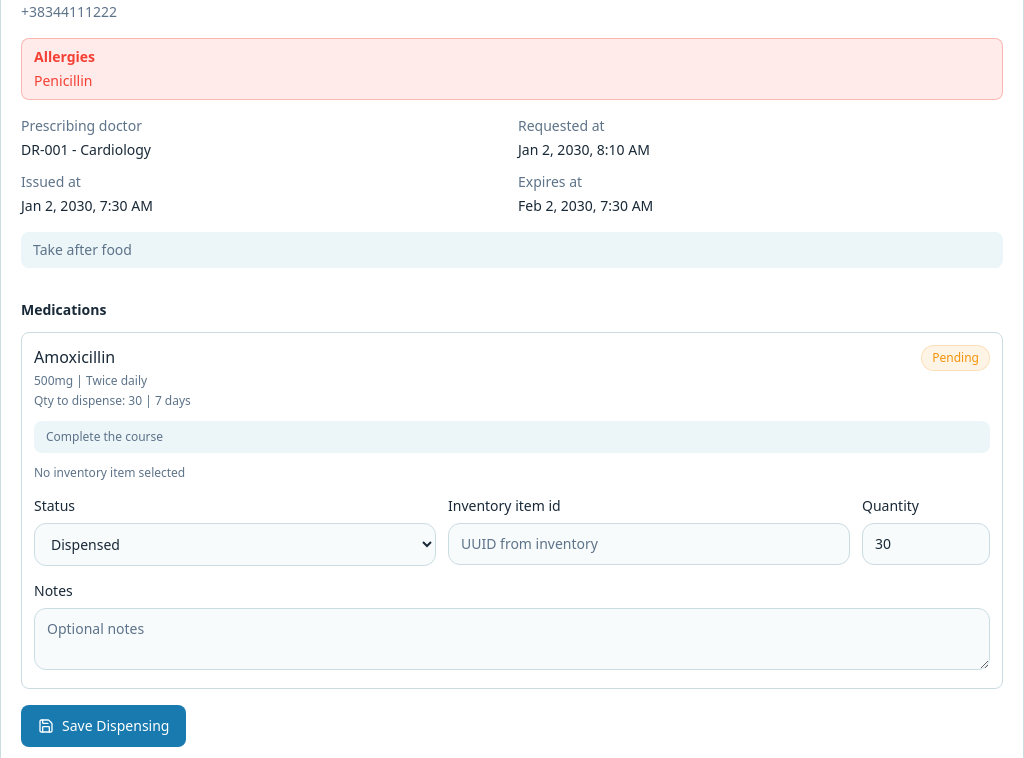
Scenario: PharmacyDashboardPage › shows backend validation errors from dispensing
(page scrolled)
Type "77777777-7777-4777-8777-777777777777" into the field labelled "Inventory item id" at (649, 544), box [448,523,850,565]
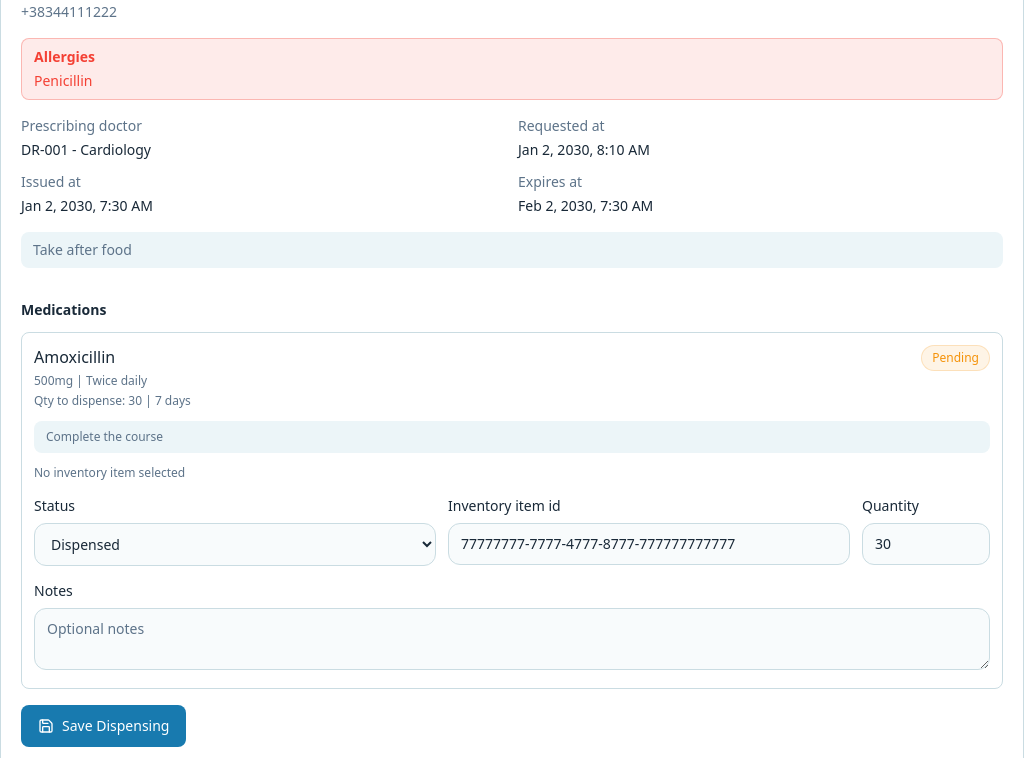
Click the button "Save Dispensing" at (104, 726), box [21,705,186,747]
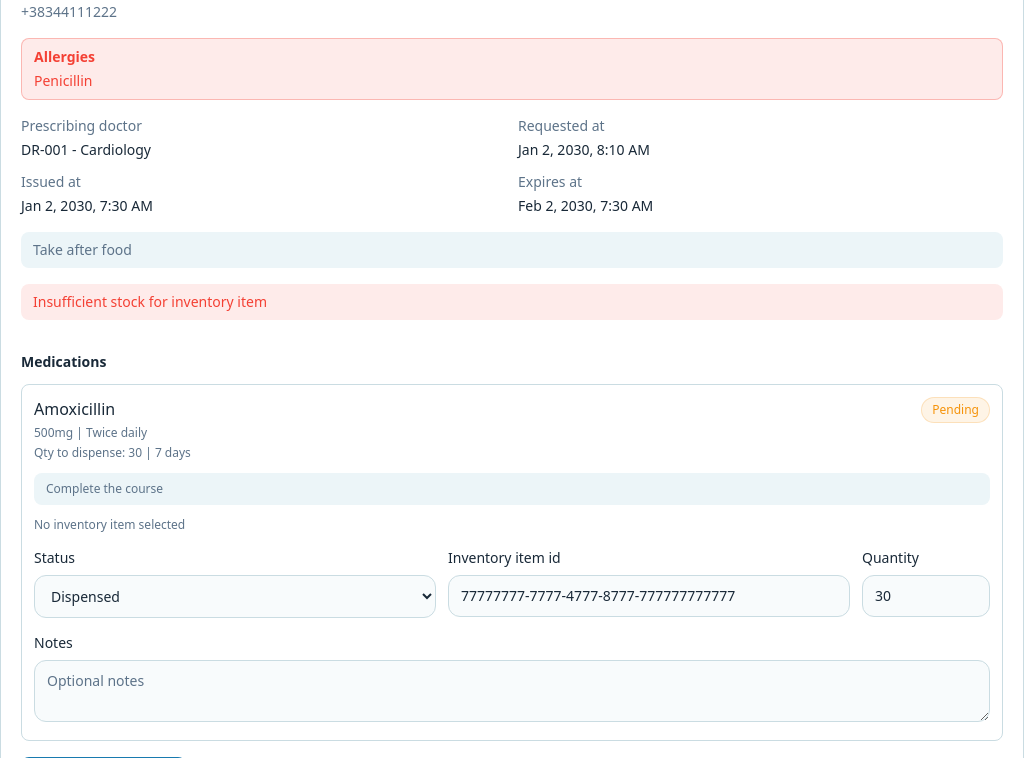
Now the text "Insufficient stock for inventory item" is shown, box [21,284,1003,320]
